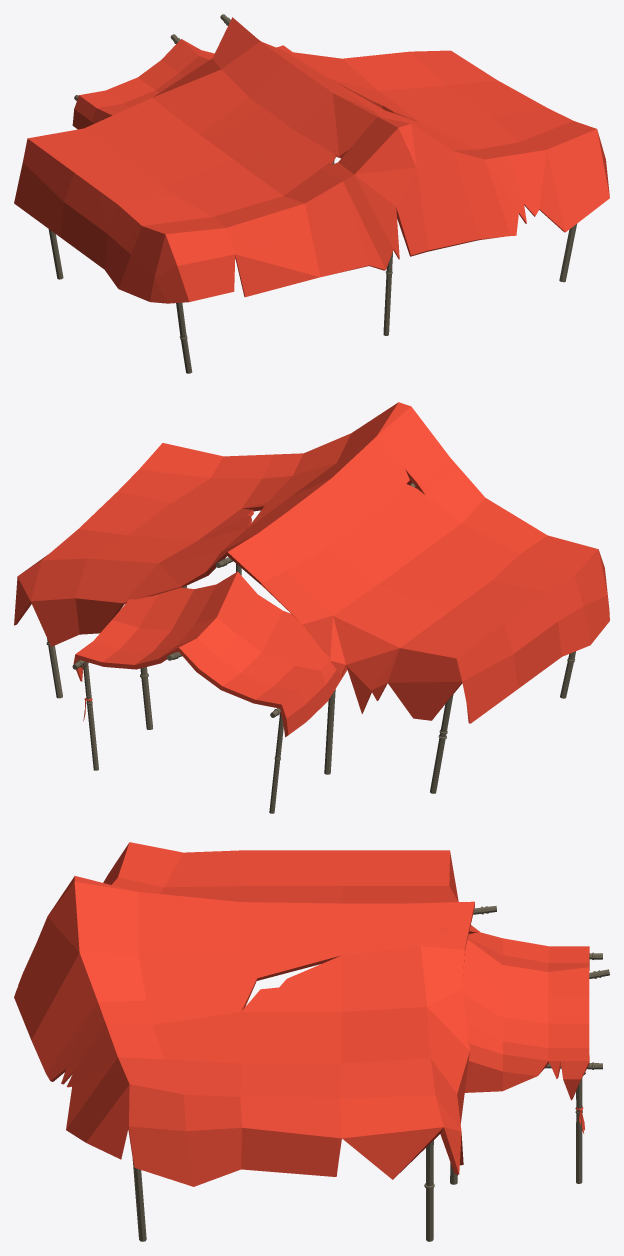
Rendered from tent_red.fbx.
The picture shows the model from 3 angles, top to bottom: view 1: azimuth 30°, elevation 25°; view 2: azimuth 150°, elevation 25°; view 3: azimuth 270°, elevation 25°; orthographic projection. The views are drawn at different scales.
Parts seen in each view (by area): view 1: tent_red; view 2: tent_red; view 3: tent_red.
Part boxes in pixels (x1,y1,x2,y2): tent_red: (14, 14, 609, 373); tent_red: (14, 402, 609, 813); tent_red: (14, 842, 609, 1241).
Bounding box in the file's own units: 1875 × 855 × 1797.
1 material, 1 textured.
